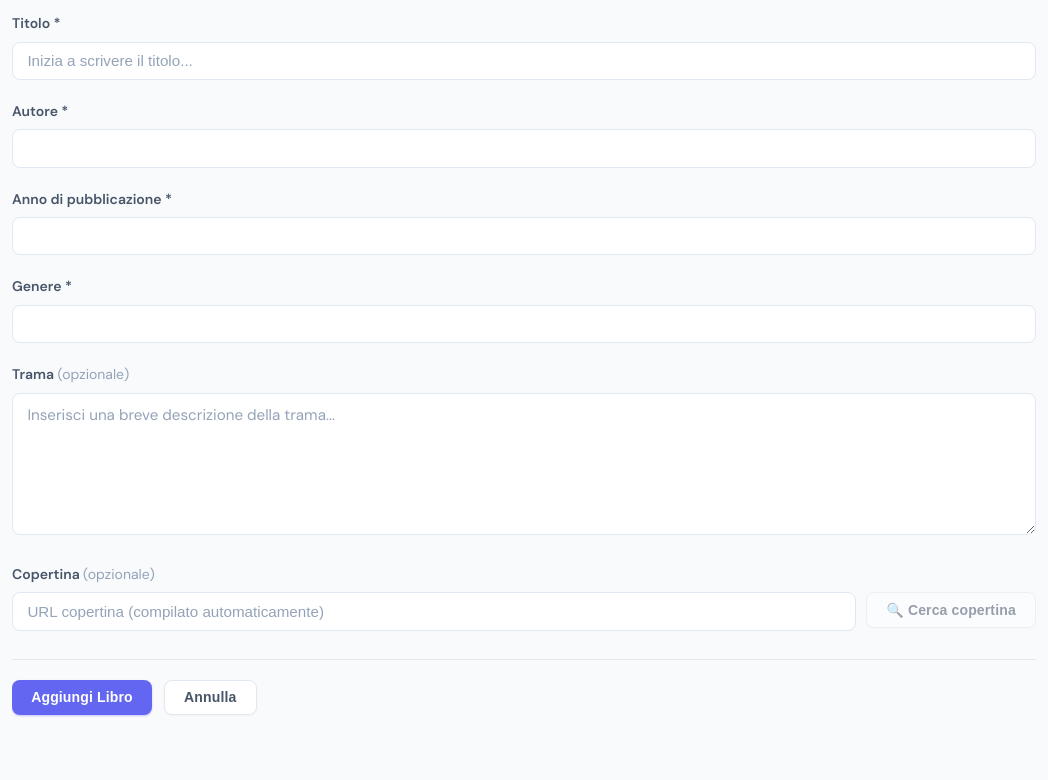
Test case: BookForm › should show validation errors for empty title
Click the button "Aggiungi Libro": (82,698) [12,680,152,715]
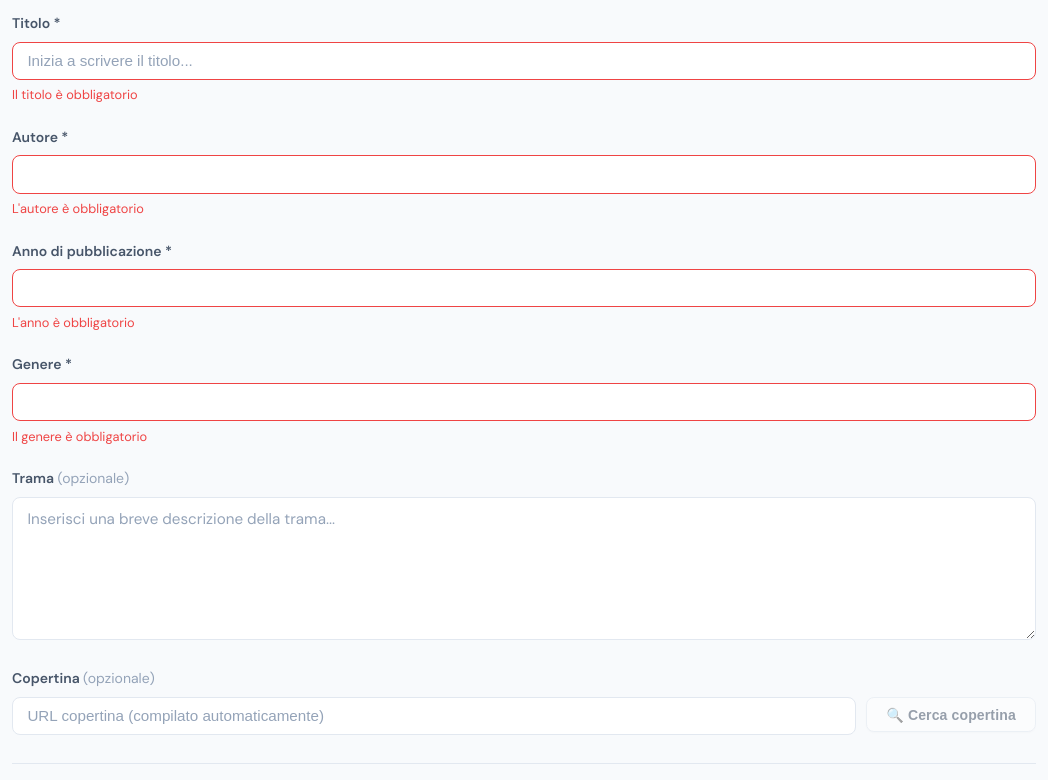
Check: the text "Il titolo è obbligatorio" is shown, box [12,86,138,103]
